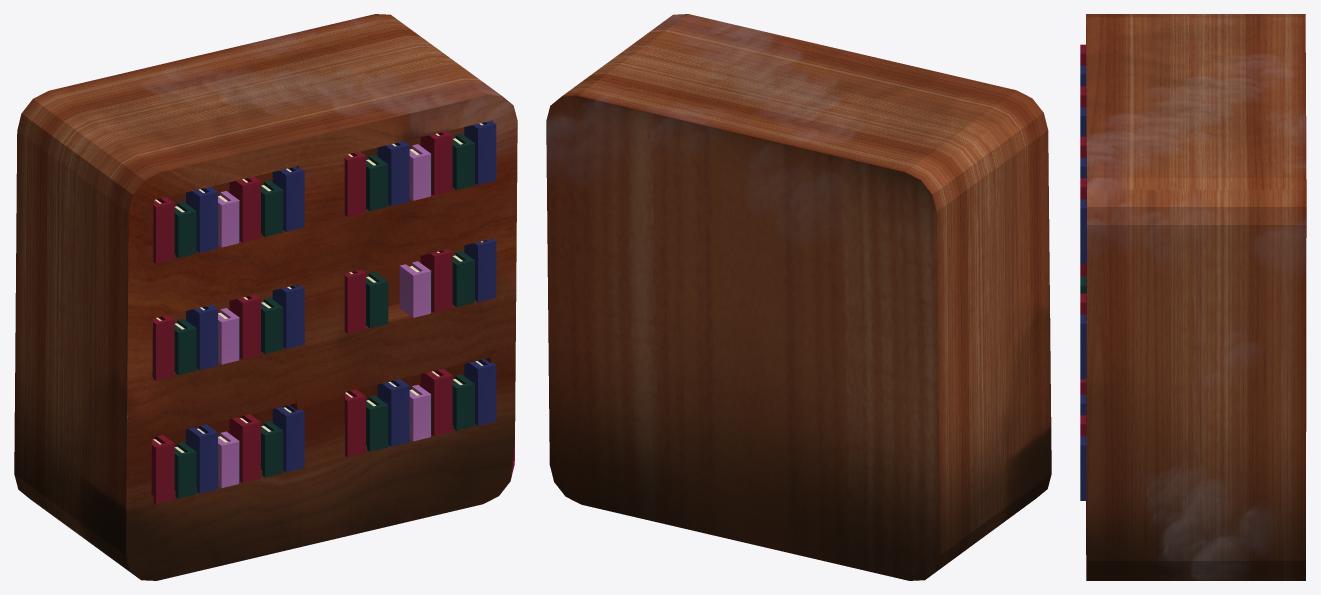
File: Librería.fbx
3 views of the same model, side by side, from view 1: azimuth 30°, elevation 25°; view 2: azimuth 150°, elevation 25°; view 3: azimuth 270°, elevation 25° (orthographic).
Visible parts, largest first — view 1: Cube.001, Cube.002; view 2: Cube.001; view 3: Cube.001, Cube.002.
Boxes of the visible parts, bbox=[...] form: Cube.001: bbox=[14, 14, 517, 580]; Cube.002: bbox=[151, 121, 496, 504]; Cube.001: bbox=[546, 14, 1051, 580]; Cube.001: bbox=[1086, 14, 1306, 580]; Cube.002: bbox=[1080, 44, 1086, 500].
Size of the model in its own units: 202 by 202 by 102.
